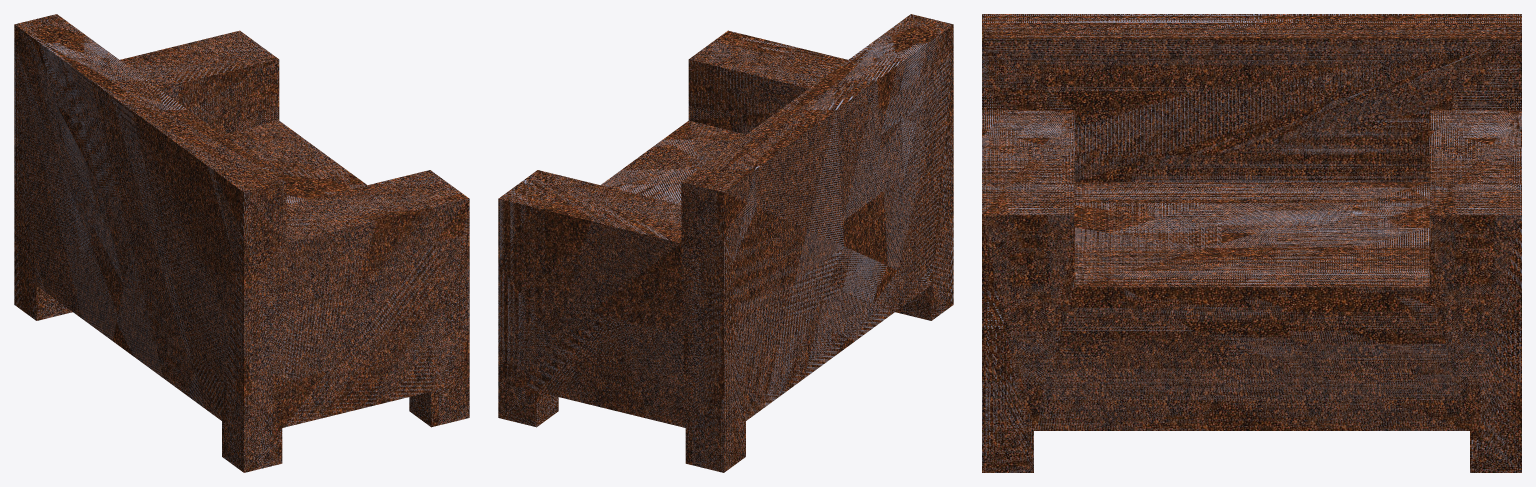
3 views of the same model, side by side, from view 1: azimuth 30°, elevation 25°; view 2: azimuth 150°, elevation 25°; view 3: azimuth 270°, elevation 25° (orthographic). The views are drawn at different scales.
Visible parts, largest first — view 1: SketchUp; view 2: SketchUp; view 3: SketchUp.
Part boxes in pixels (x1,y1,x2,y2): SketchUp: (14,14,469,472); SketchUp: (498,14,953,472); SketchUp: (982,14,1521,472).
Size of the model in its own units: 26.5 by 46.75 by 31.5.
Materials: 2 (1 with a texture image).
